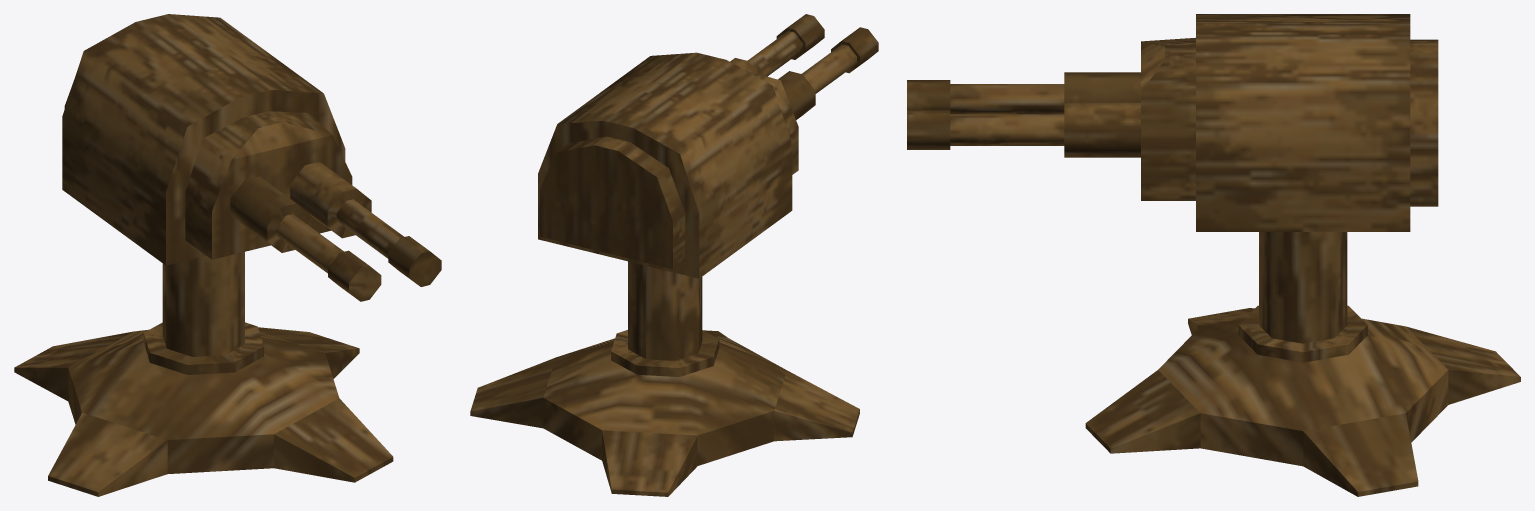
Rendered from SM_Turret.fbx.
3 views of the same model, side by side, from view 1: azimuth 30°, elevation 25°; view 2: azimuth 150°, elevation 25°; view 3: azimuth 270°, elevation 25° (orthographic). The views are drawn at different scales.
Visible parts, largest first — view 1: SM_Turret; view 2: SM_Turret; view 3: SM_Turret.
Part boxes in pixels (<box>): SM_Turret: <box>14,14,441,496</box>; SM_Turret: <box>470,14,878,496</box>; SM_Turret: <box>907,14,1520,496</box>.
Size of the model in its own units: 307 by 290 by 432.
